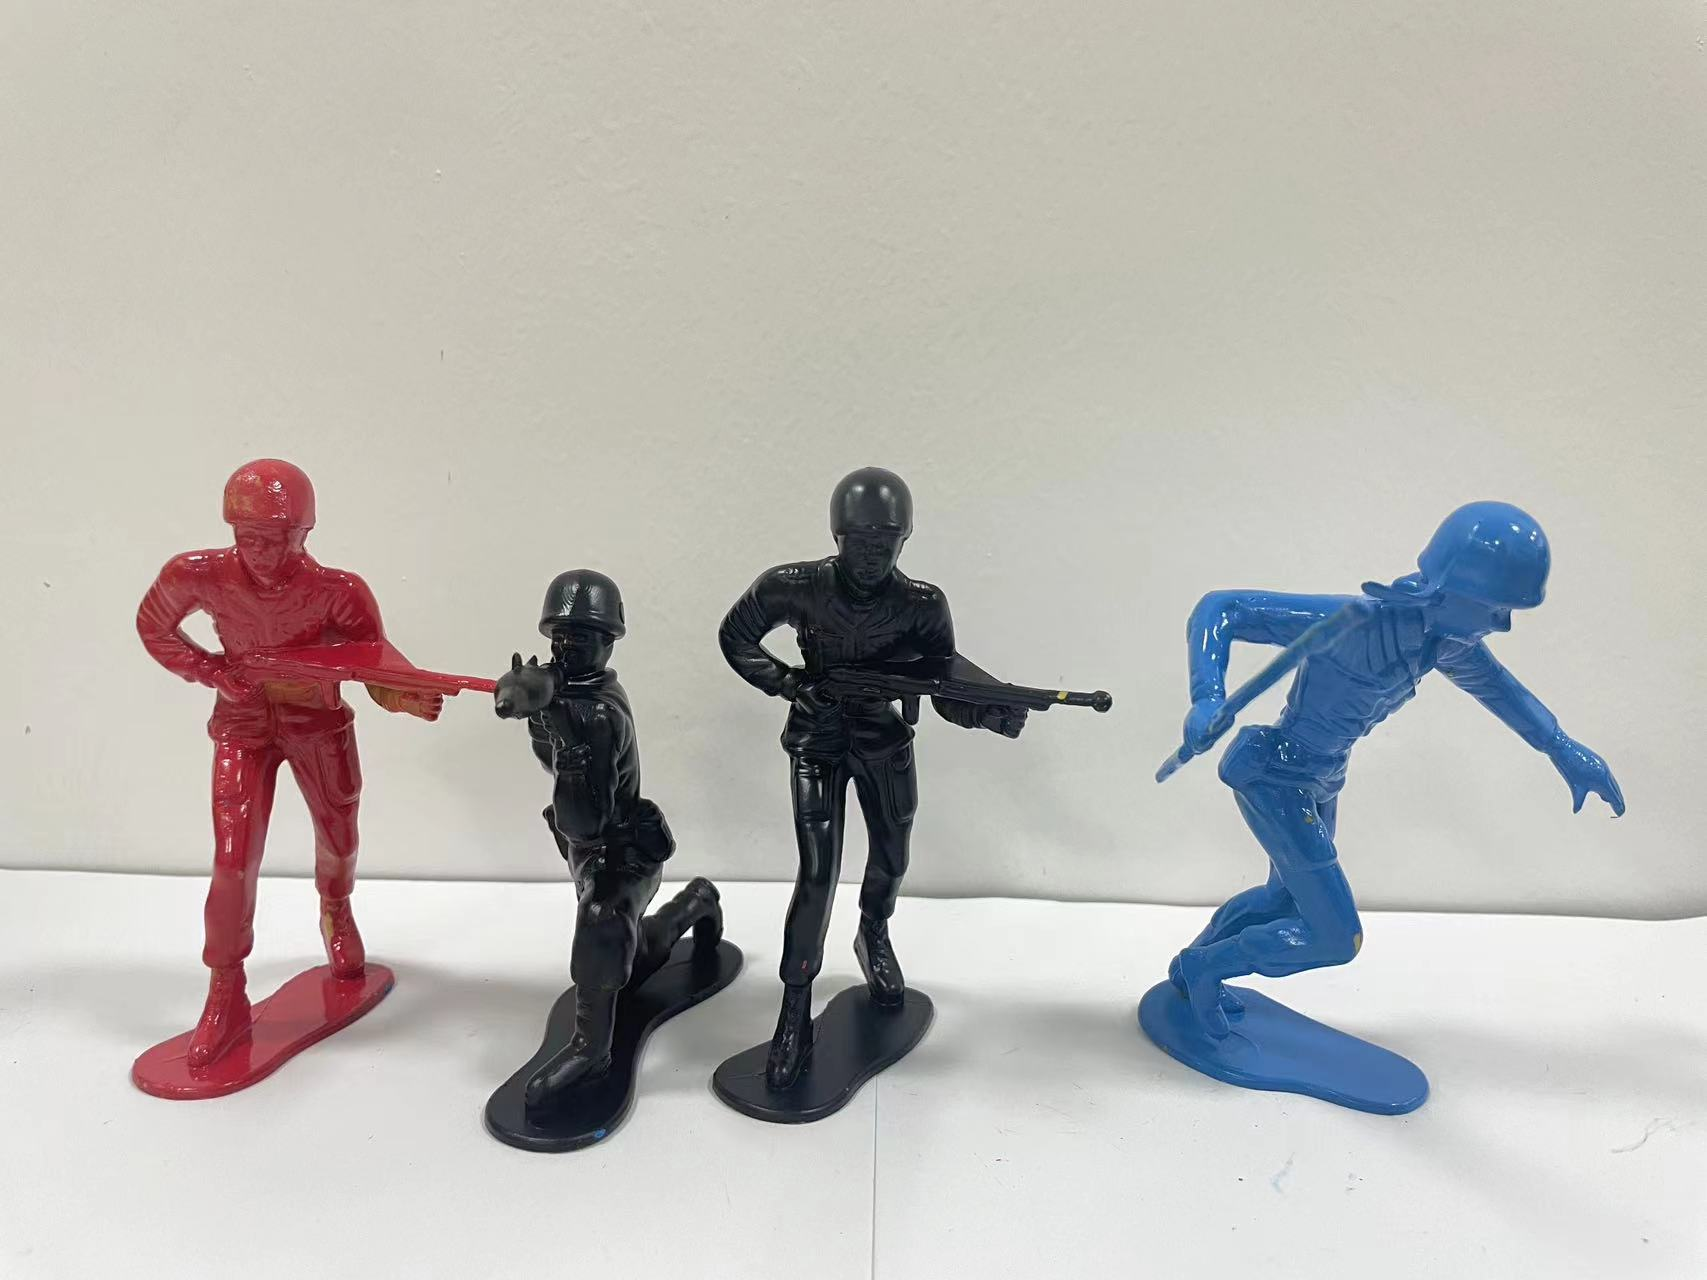black: (718, 454, 1125, 1155), (474, 528, 720, 1160)
blue: (1147, 450, 1647, 1133)
red: (99, 436, 466, 1119)
